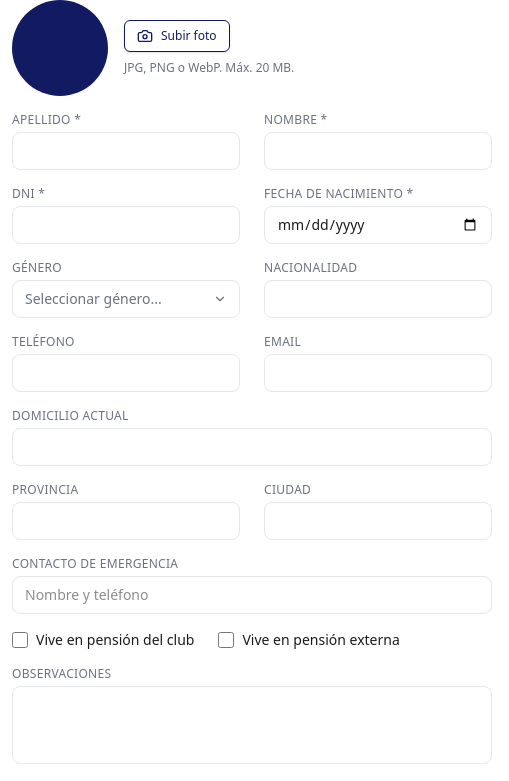
Test: TabPersonal › renderiza opciones del enum Género
This screenshot has width=509, height=781.
Click the button labelled "Seleccionar género...". click: (126, 299)
box: x1=12 y1=280 x2=240 y2=318
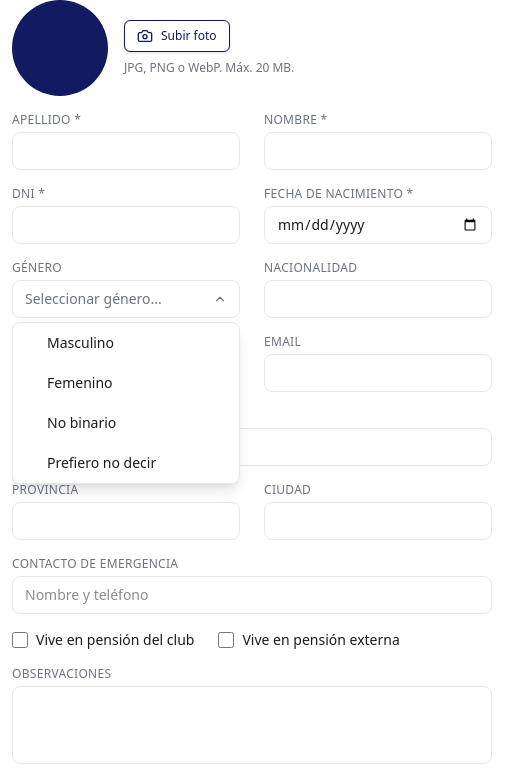
expect the text "Masculino" is shown: met, box x1=47 y1=333 x2=114 y2=353
expect the text "Femenino" is shown: met, box x1=47 y1=373 x2=112 y2=393
